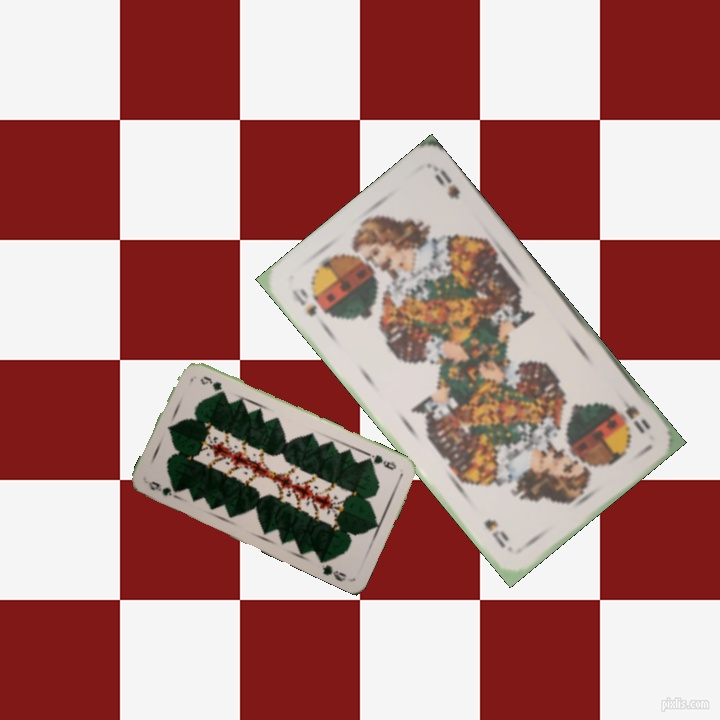G9: (362, 449, 399, 473), (144, 477, 183, 499)
SO: (612, 388, 653, 437), (288, 284, 327, 331)
